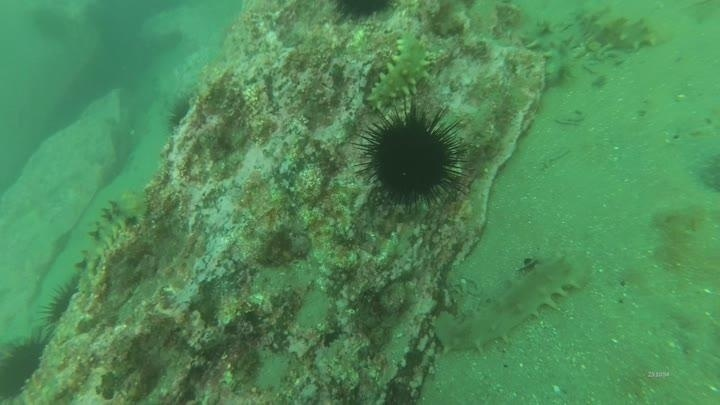echinus: (354, 104, 469, 211), (0, 331, 52, 403), (39, 276, 84, 333), (328, 0, 398, 25)
holothurian: (429, 251, 589, 357), (364, 27, 435, 114), (573, 3, 671, 55), (519, 17, 578, 87), (86, 189, 151, 252)
